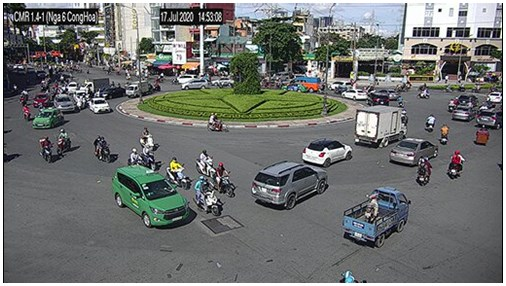xe_hoi: (113, 166, 191, 229), (251, 161, 328, 210), (389, 138, 438, 166), (303, 139, 353, 166), (32, 107, 64, 130), (476, 109, 502, 127), (54, 92, 75, 113), (89, 97, 111, 114), (180, 79, 211, 90), (341, 89, 367, 102), (453, 106, 474, 122), (367, 92, 389, 106), (33, 93, 52, 108), (99, 88, 125, 98), (213, 76, 235, 86), (457, 93, 478, 103), (486, 92, 501, 102)
xe_may: (192, 173, 218, 215), (212, 163, 235, 197), (165, 157, 187, 190), (195, 150, 217, 179), (448, 148, 465, 179), (94, 135, 111, 164), (416, 156, 431, 185), (56, 128, 71, 156), (141, 144, 157, 170), (38, 136, 53, 163), (139, 126, 154, 152), (207, 113, 226, 133), (128, 147, 144, 167), (426, 113, 436, 133), (440, 122, 448, 146), (418, 86, 430, 101), (23, 103, 32, 122), (396, 94, 405, 109), (402, 107, 409, 126), (442, 82, 453, 94), (448, 97, 456, 111)
xe_tai: (354, 106, 409, 149), (81, 78, 110, 94), (126, 81, 150, 98)
